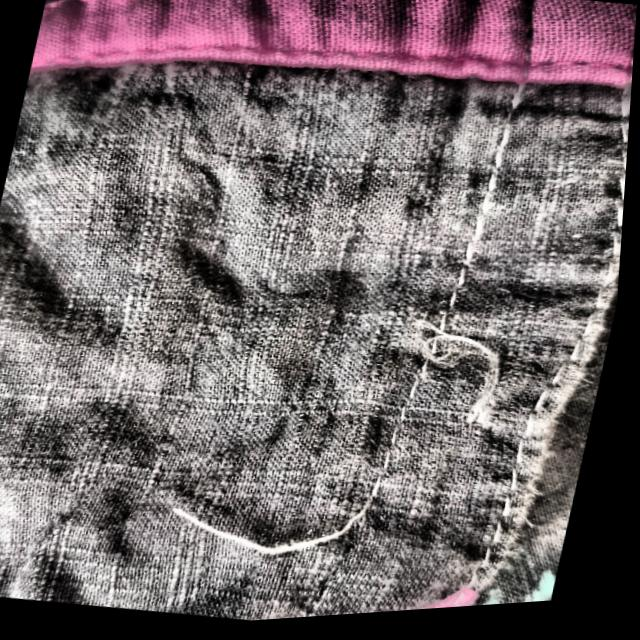Stitch: (159, 270, 567, 604)
